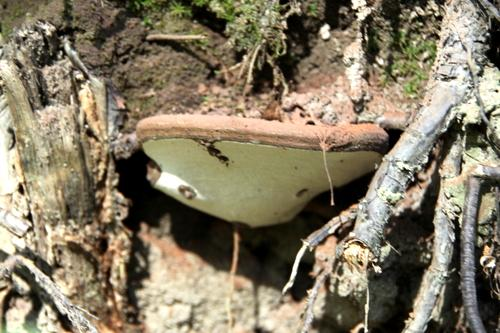Ganoderma - Fruit Body: (128, 109, 400, 206)
